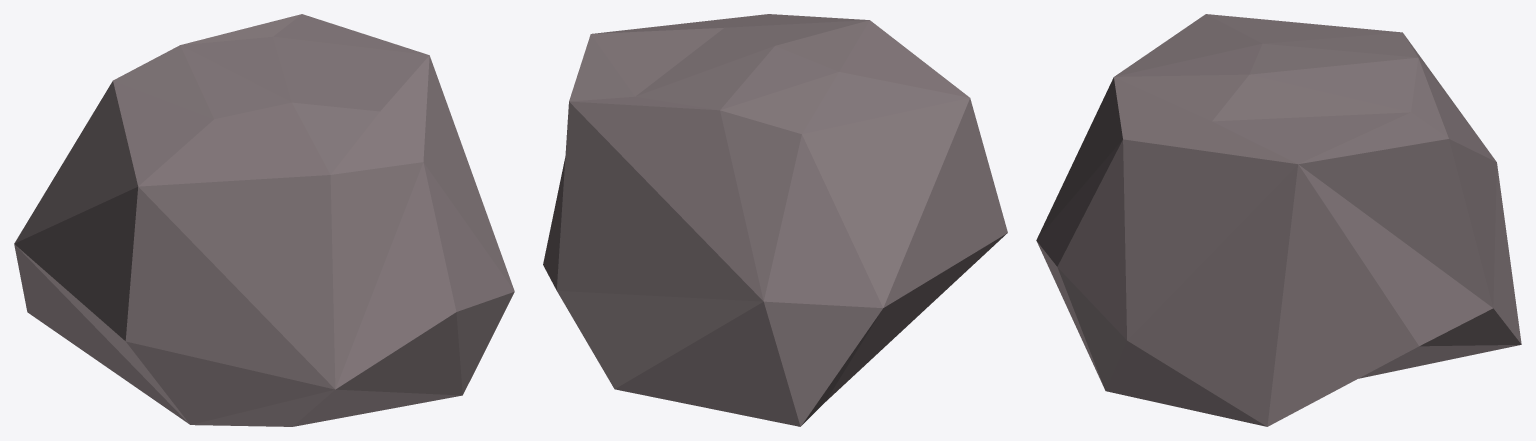
The model's file is rock2.glb.
3 views of the same model, side by side, from view 1: azimuth 30°, elevation 25°; view 2: azimuth 150°, elevation 25°; view 3: azimuth 270°, elevation 25° (orthographic).
Parts seen in each view (by area): view 1: rock2-col; view 2: rock2-col; view 3: rock2-col.
Boxes of the visible parts, box(x1,y1,x2,y2) form: rock2-col: box(14, 14, 514, 426); rock2-col: box(543, 14, 1007, 426); rock2-col: box(1036, 14, 1521, 426).
Size of the model in its own units: 3.47 by 2.71 by 3.62.
1 material, 1 textured.
